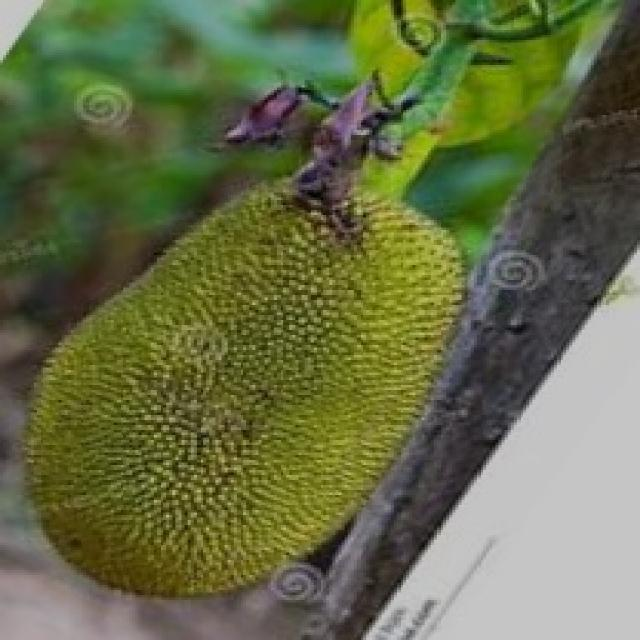Fruit: (0, 287, 388, 635)
